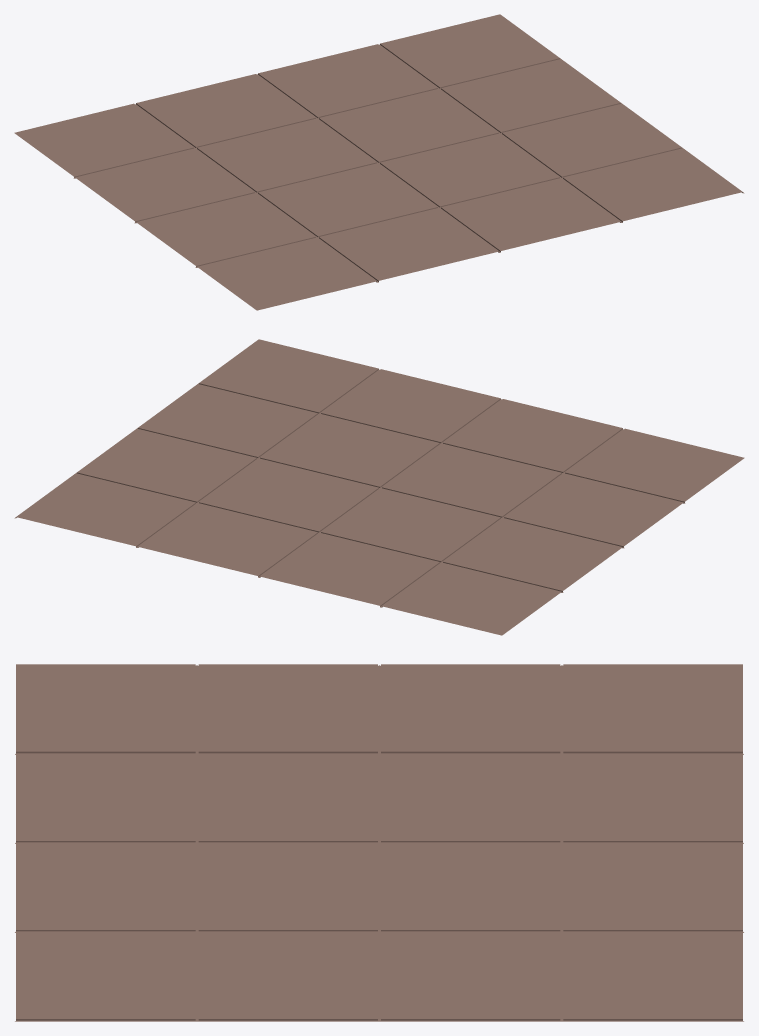
Rendered from SUELO.fbx.
3 renders of one model, top to bottom at view 1: azimuth 30°, elevation 25°; view 2: azimuth 150°, elevation 25°; view 3: azimuth 270°, elevation 25°, orthographic. The views are drawn at different scales.
Visible parts, largest first — view 1: suelo; view 2: suelo; view 3: suelo.
Boxes of the visible parts, bbox=[...] form: suelo: bbox=[14, 14, 744, 310]; suelo: bbox=[14, 339, 744, 635]; suelo: bbox=[15, 664, 743, 1021].
Size of the model in its own units: 865 by 2.27 by 999.
